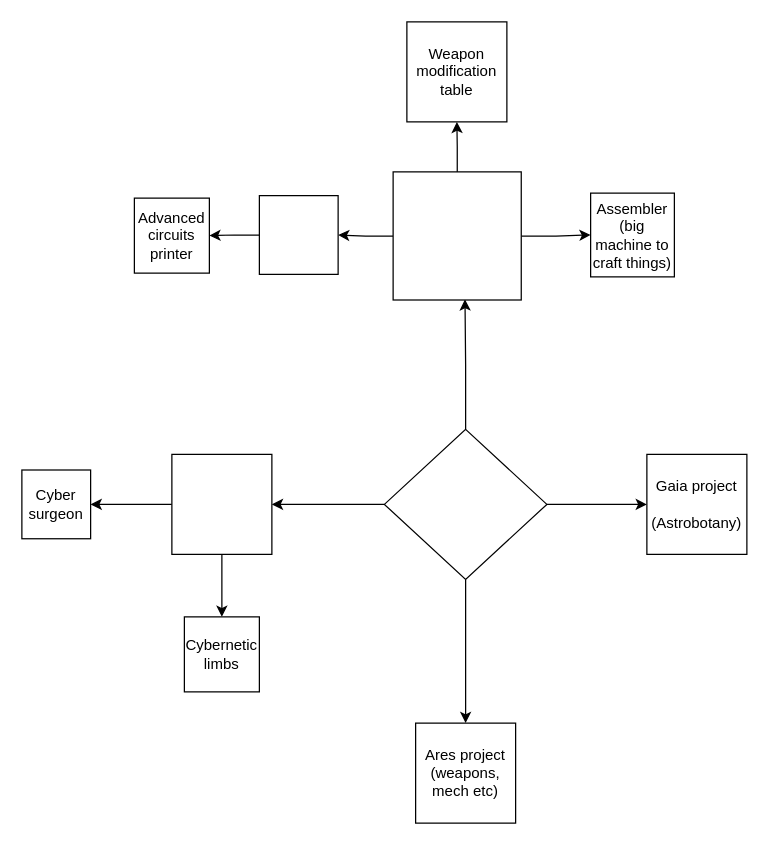
This 769x845 diagram has some shape labels left out. Each missing label, with the centre of its shape:
Apollo project (medicine): (221,503)
Circuits printer: (298,234)
Hephaestus project (everything about creating and crafting): (456,235)
The start (titanite crystals): (465,503)
